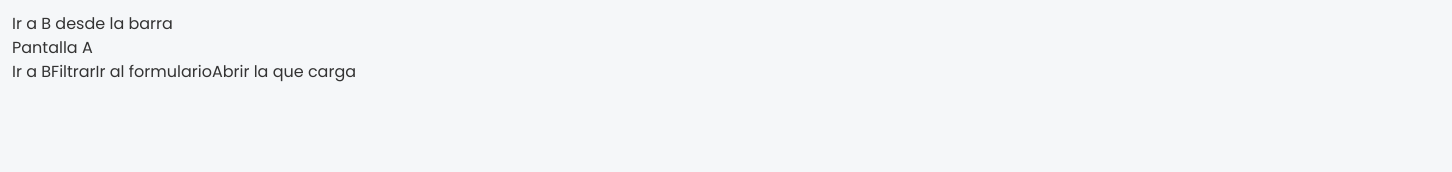
Test: título del documento › cada pantalla pone su título al montarse
This screenshot has width=1452, height=172.
Click the link "Ir a B" at (32, 72), box [12,60,51,83]
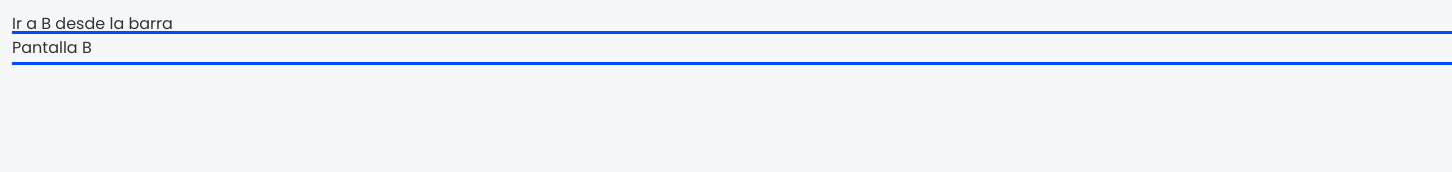
Expected: the heading "Pantalla B" is shown, [12,36,92,59]
